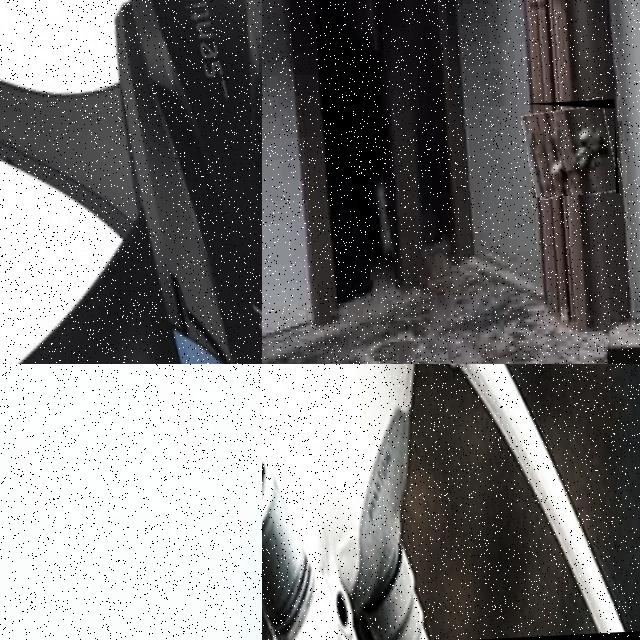0: (524, 100, 619, 198)
drone: (262, 364, 640, 640), (0, 0, 262, 364)
